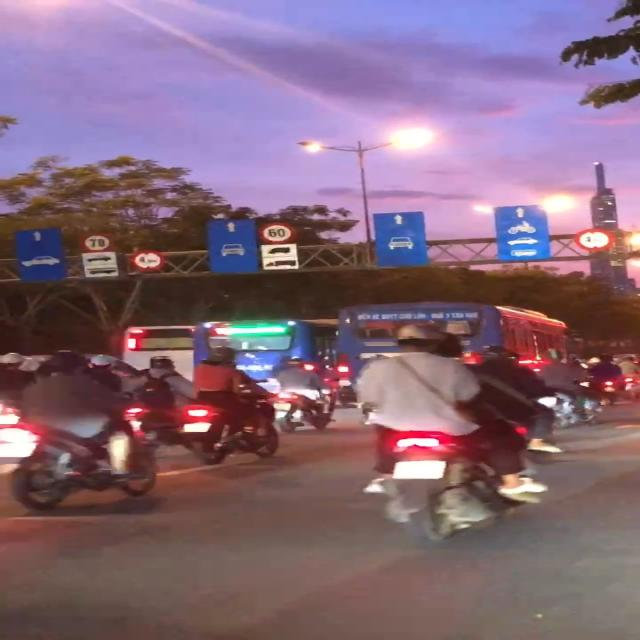Bien bao han che chieu cao: (126, 250, 166, 272)
Bien bao toc do toi da cho phep: (256, 222, 298, 245), (81, 233, 116, 253)
